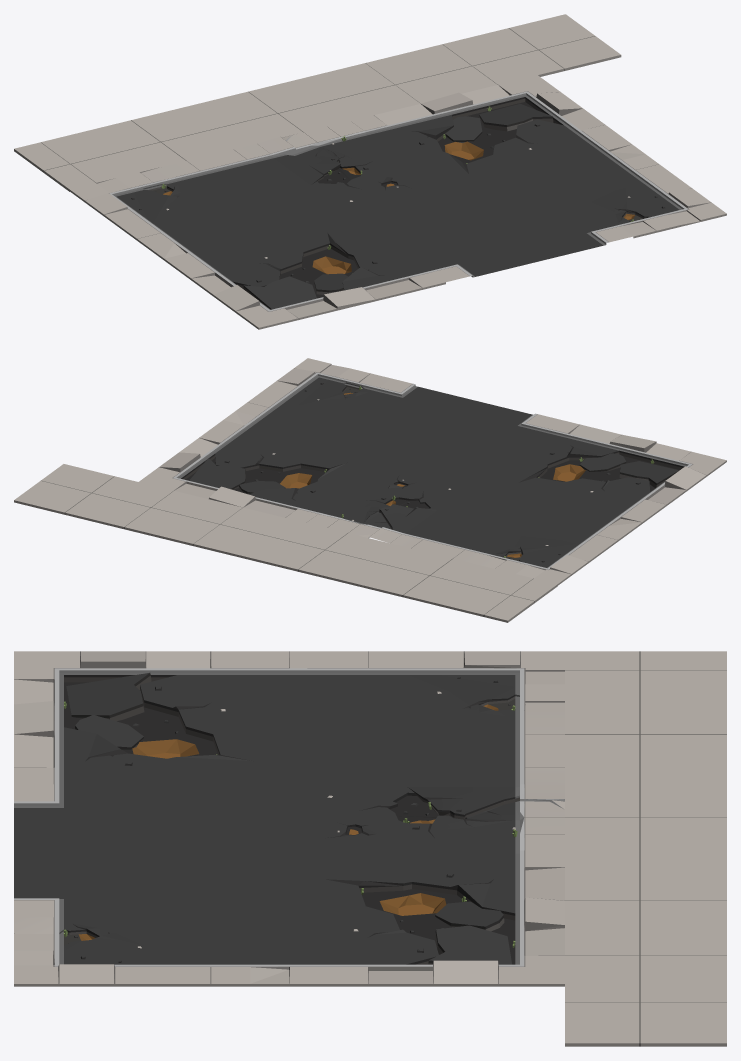
Rendered from SA_Bld_Motel_Carpark_01.gltf.
The picture shows the model from 3 angles, top to bottom: view 1: azimuth 30°, elevation 25°; view 2: azimuth 150°, elevation 25°; view 3: azimuth 270°, elevation 25°; orthographic projection. The views are drawn at different scales.
Parts seen in each view (by area): view 1: SA_Bld_Motel_Carpark_01; view 2: SA_Bld_Motel_Carpark_01; view 3: SA_Bld_Motel_Carpark_01.
Boxes of the visible parts, x1,y1,x2,y2 form: SA_Bld_Motel_Carpark_01: (14, 14, 726, 329); SA_Bld_Motel_Carpark_01: (14, 358, 726, 622); SA_Bld_Motel_Carpark_01: (14, 651, 726, 1046).
Bounding box in the file's own units: 58.92 × 1.73 × 45.28.
Materials: 1 (1 with a texture image).
